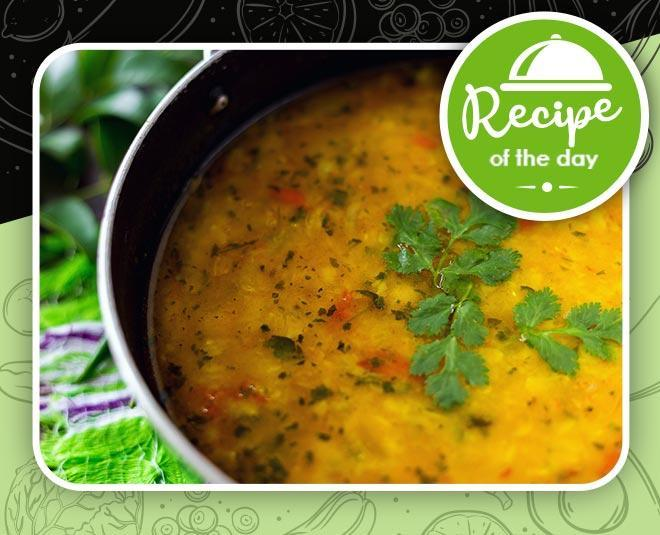dal: (121, 37, 630, 491)
